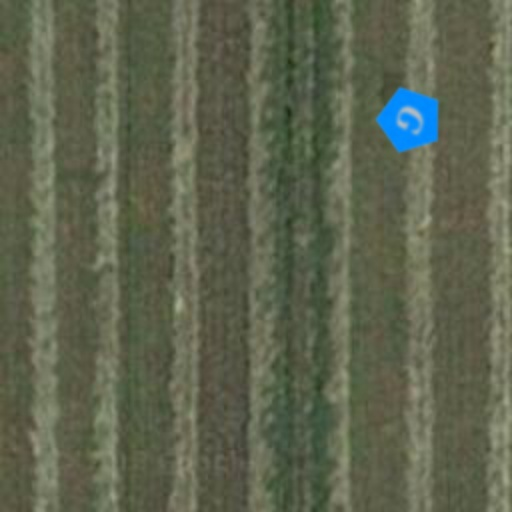pentagon: (366, 76, 454, 164)
